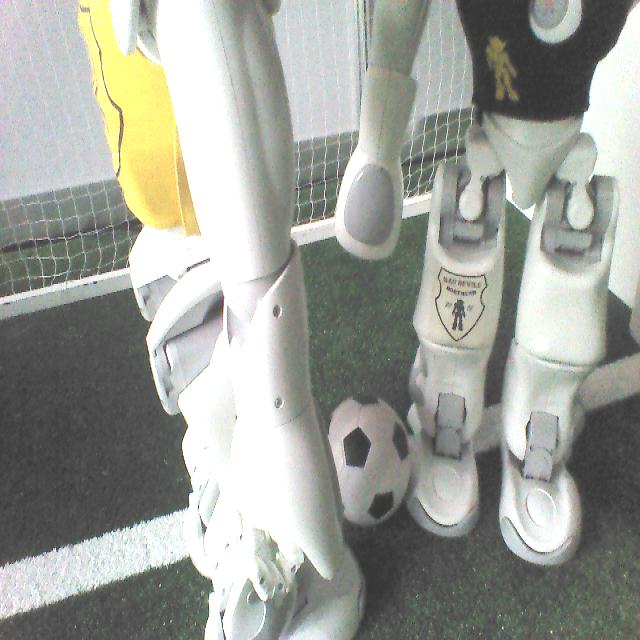ball: (321, 390, 412, 530)
goalpost: (626, 280, 639, 341)
